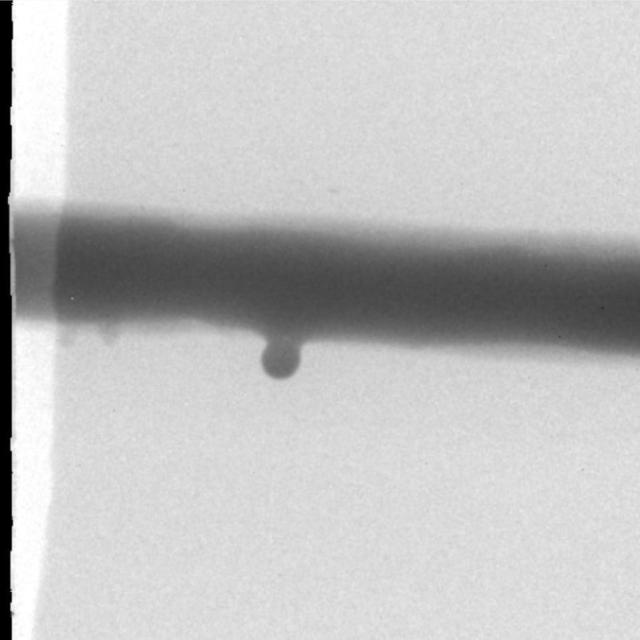overlap: (259, 329, 301, 380)
